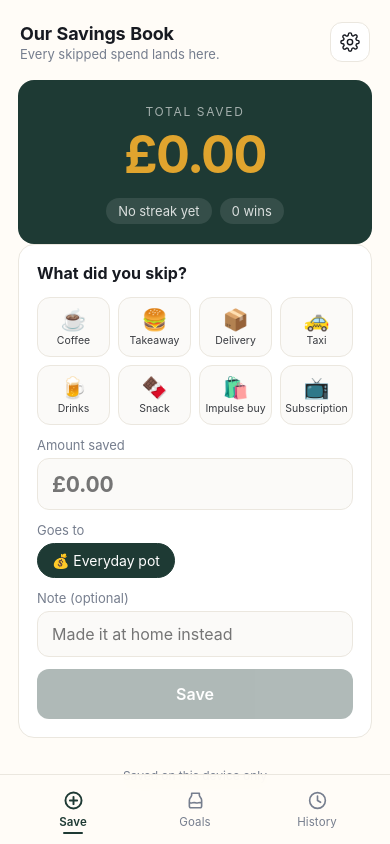
Scenario: uygulama açılışı › geçmiş sekmesinde seri ve kayıtlar birlikte durur
What coordinates should you click on to do the following:
click the button "History"
I would click on:
 (317, 808)
Its box is x1=256 y1=781 x2=378 y2=834.
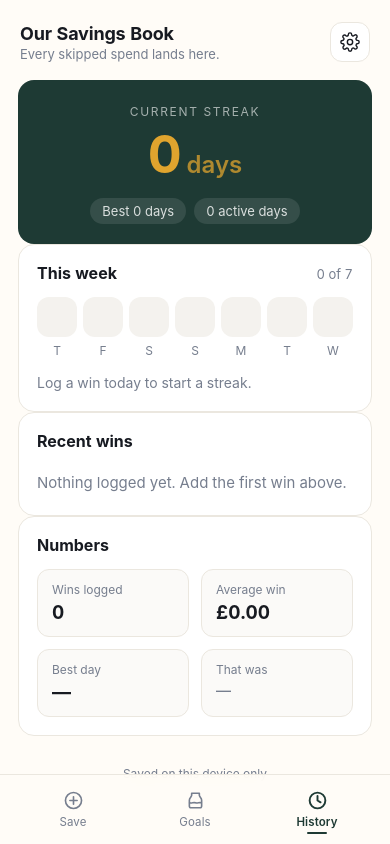
Now the text "Current streak" is shown, box x1=130 y1=104 x2=260 y2=119
Now the heading "This week" is shown, box x1=37 y1=263 x2=117 y2=283
Now the heading "Recent wins" is shown, box x1=37 y1=431 x2=133 y2=451
